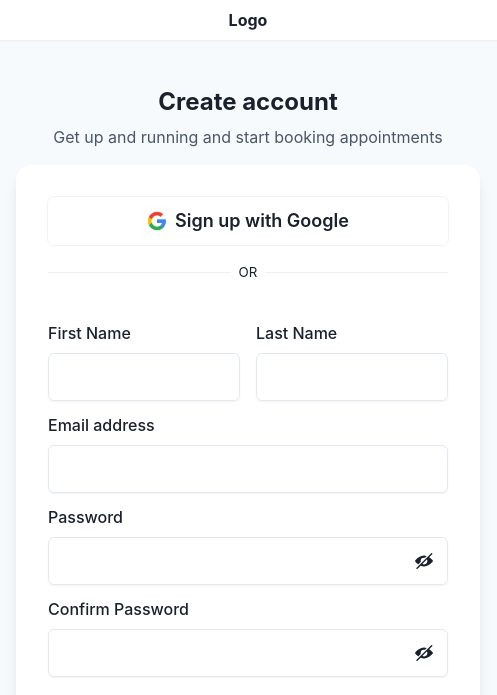
Test: Verify that User Can Create Account Successfully › should submit the form with valid data
Type "John" into the field named "firstName". click: [144, 377]
box: [48,353,240,401]
Type "Doe" into the field named "lastName". click: [352, 377]
box: [256,353,448,401]
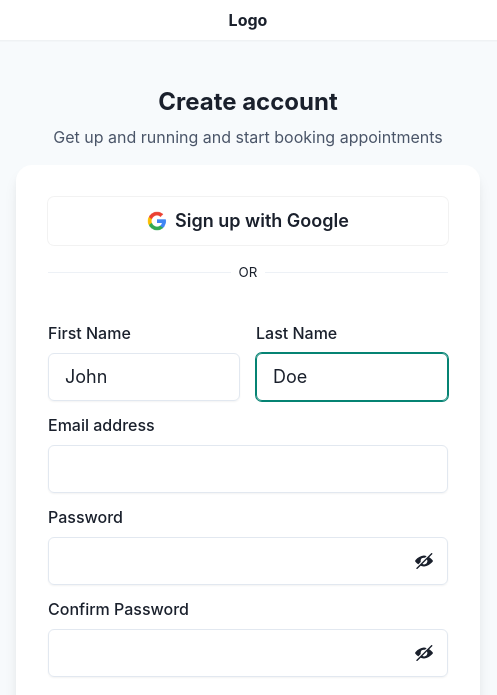
Type "johndoe@example.com" into the field named "email". click: [248, 469]
box: [48,445,448,493]
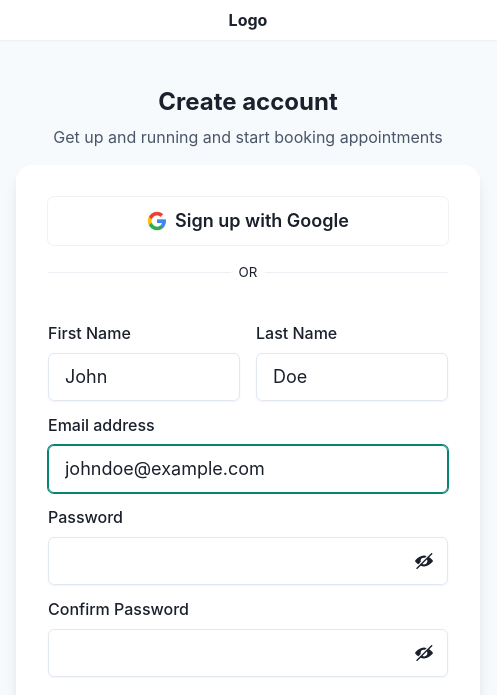
Type "StrongPass123" into the password field labelled "Password". click: [248, 561]
box: [48,537,448,585]
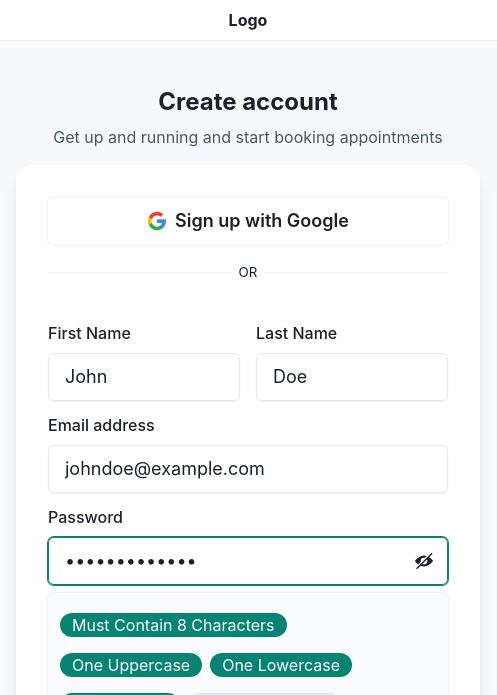
Scroll
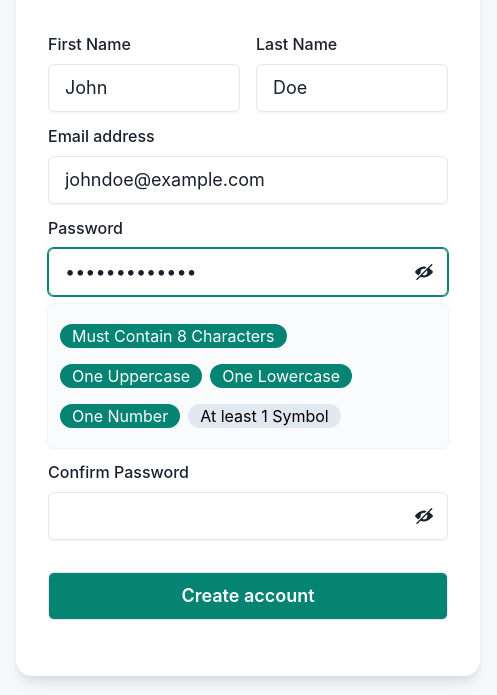
Type "StrongPass123" into the password field named "confirm". click: [248, 516]
box: [48,492,448,540]
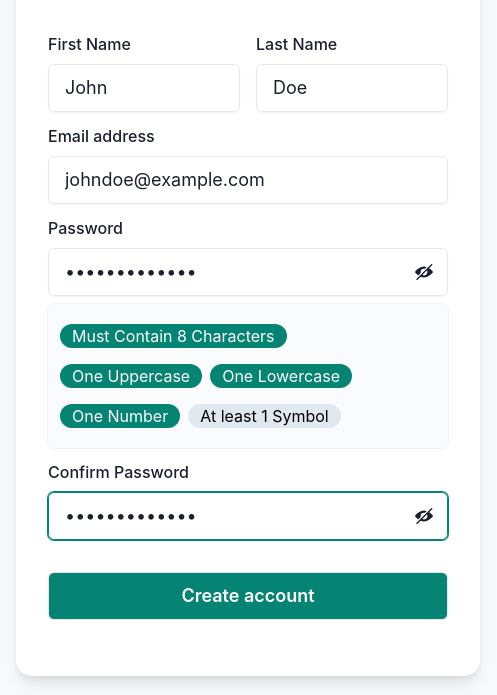
Click the submit button. click: [248, 596]
box: [48,572,448,620]
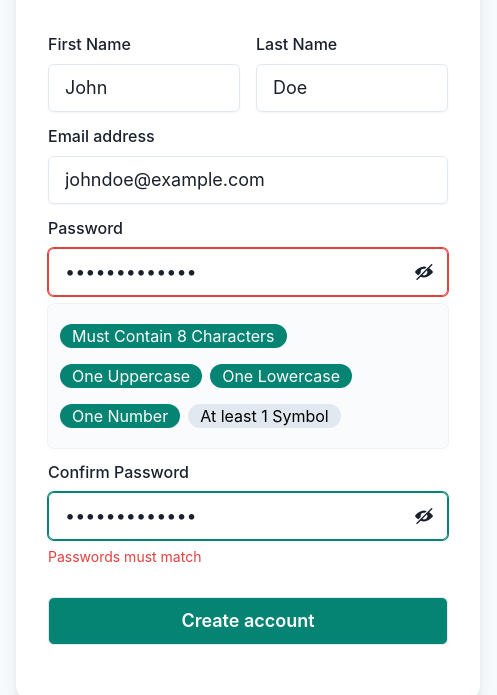
Now the text "Passwords must match" is shown, box [48,548,201,565]
